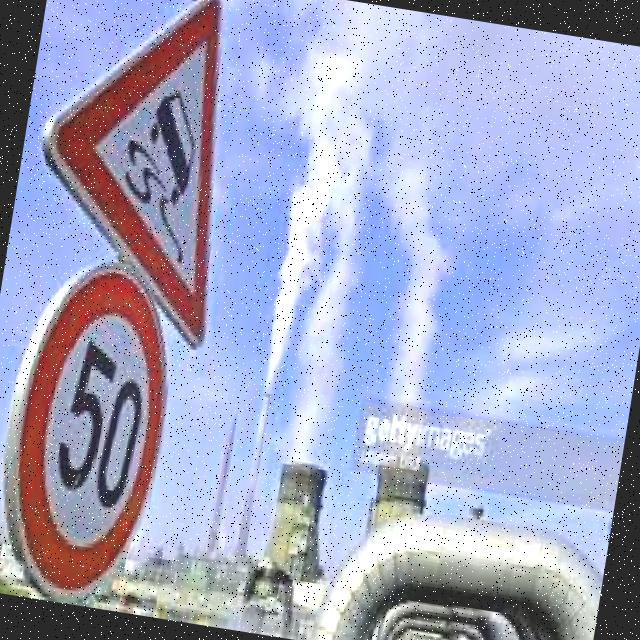Ograniczenie predkosci do 50: (0, 254, 198, 612)
